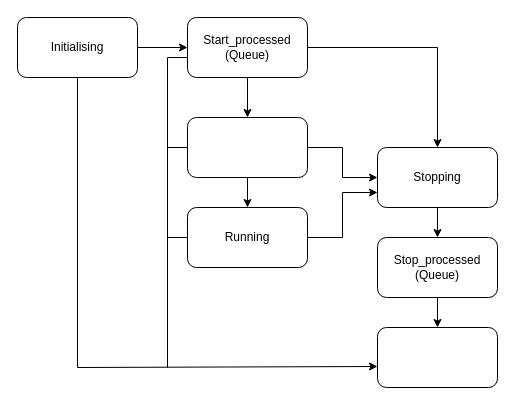
Image size: 523x405. Some labels were removed from this diagram. Here are the shapes that lost their labels. From the top down, the centre of each, then its label:
point (247, 147): Created
point (437, 357): Stopped
